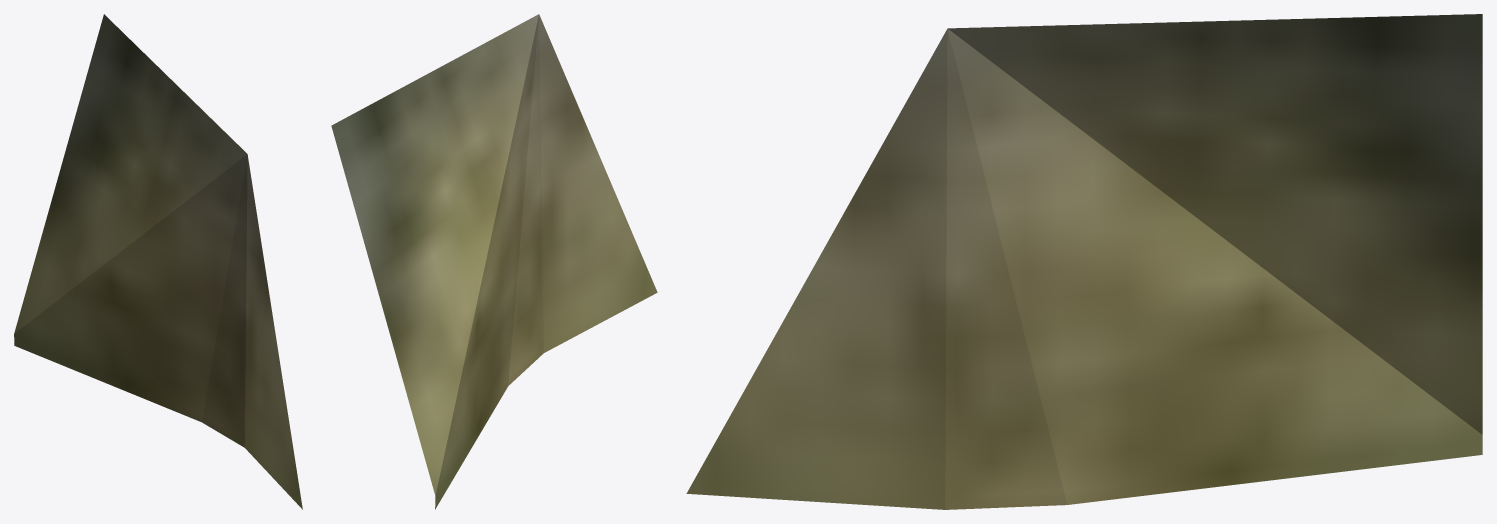
3 renders of one model, left to right at view 1: azimuth 30°, elevation 25°; view 2: azimuth 150°, elevation 25°; view 3: azimuth 270°, elevation 25°, orthographic. The views are drawn at different scales.
Size of the model in its own units: 1.78 by 5.85 by 8.22.
1 material, 1 textured.
